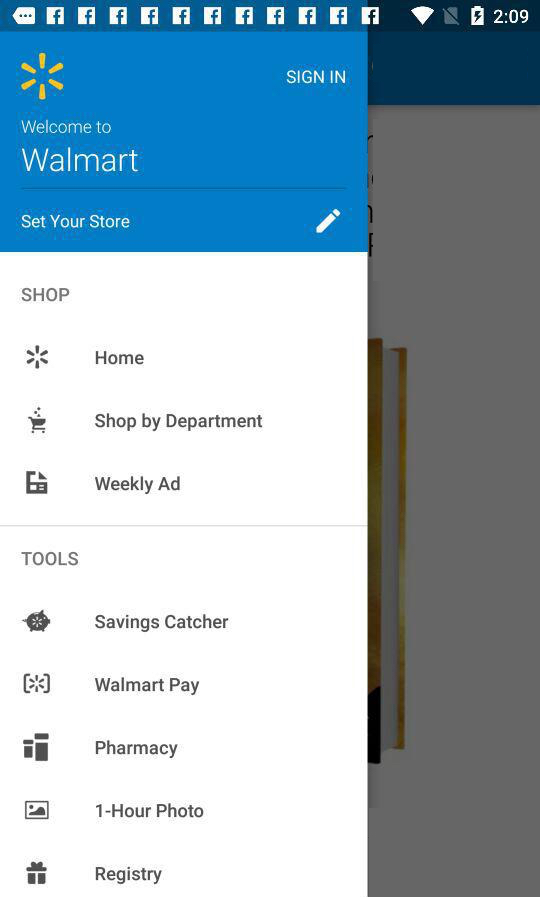Drawer: (1, 33, 368, 897)
Icon: (315, 209, 342, 236), (28, 406, 48, 435), (26, 861, 49, 885), (26, 471, 49, 495), (25, 800, 51, 820)
Image: (21, 53, 65, 102), (23, 732, 51, 762), (22, 609, 52, 633), (24, 673, 52, 694), (27, 345, 50, 370)
Text: (95, 412, 264, 432), (21, 146, 140, 174), (95, 613, 230, 633), (95, 676, 201, 696), (96, 802, 205, 819), (21, 214, 131, 230), (95, 475, 181, 495), (96, 739, 179, 759), (21, 119, 113, 136), (95, 865, 164, 885), (21, 551, 80, 567), (286, 70, 347, 85), (96, 351, 145, 366), (22, 288, 71, 303)
UpperTaskBar: (1, 1, 540, 33)
